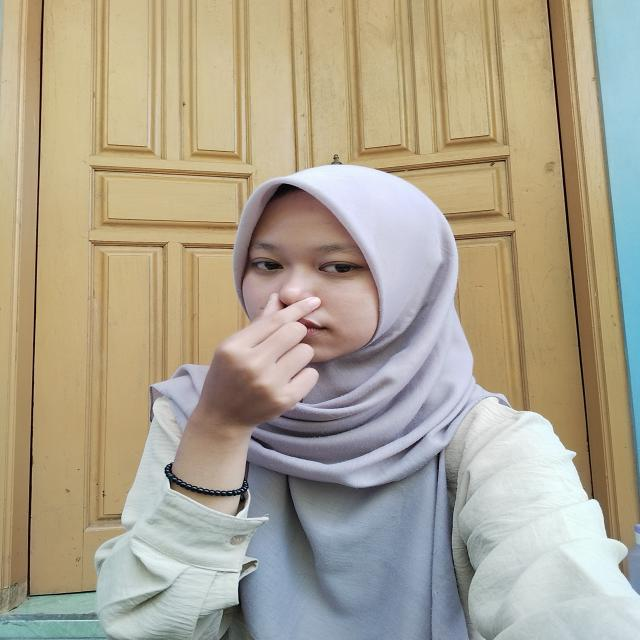bau: (183, 278, 334, 419)
